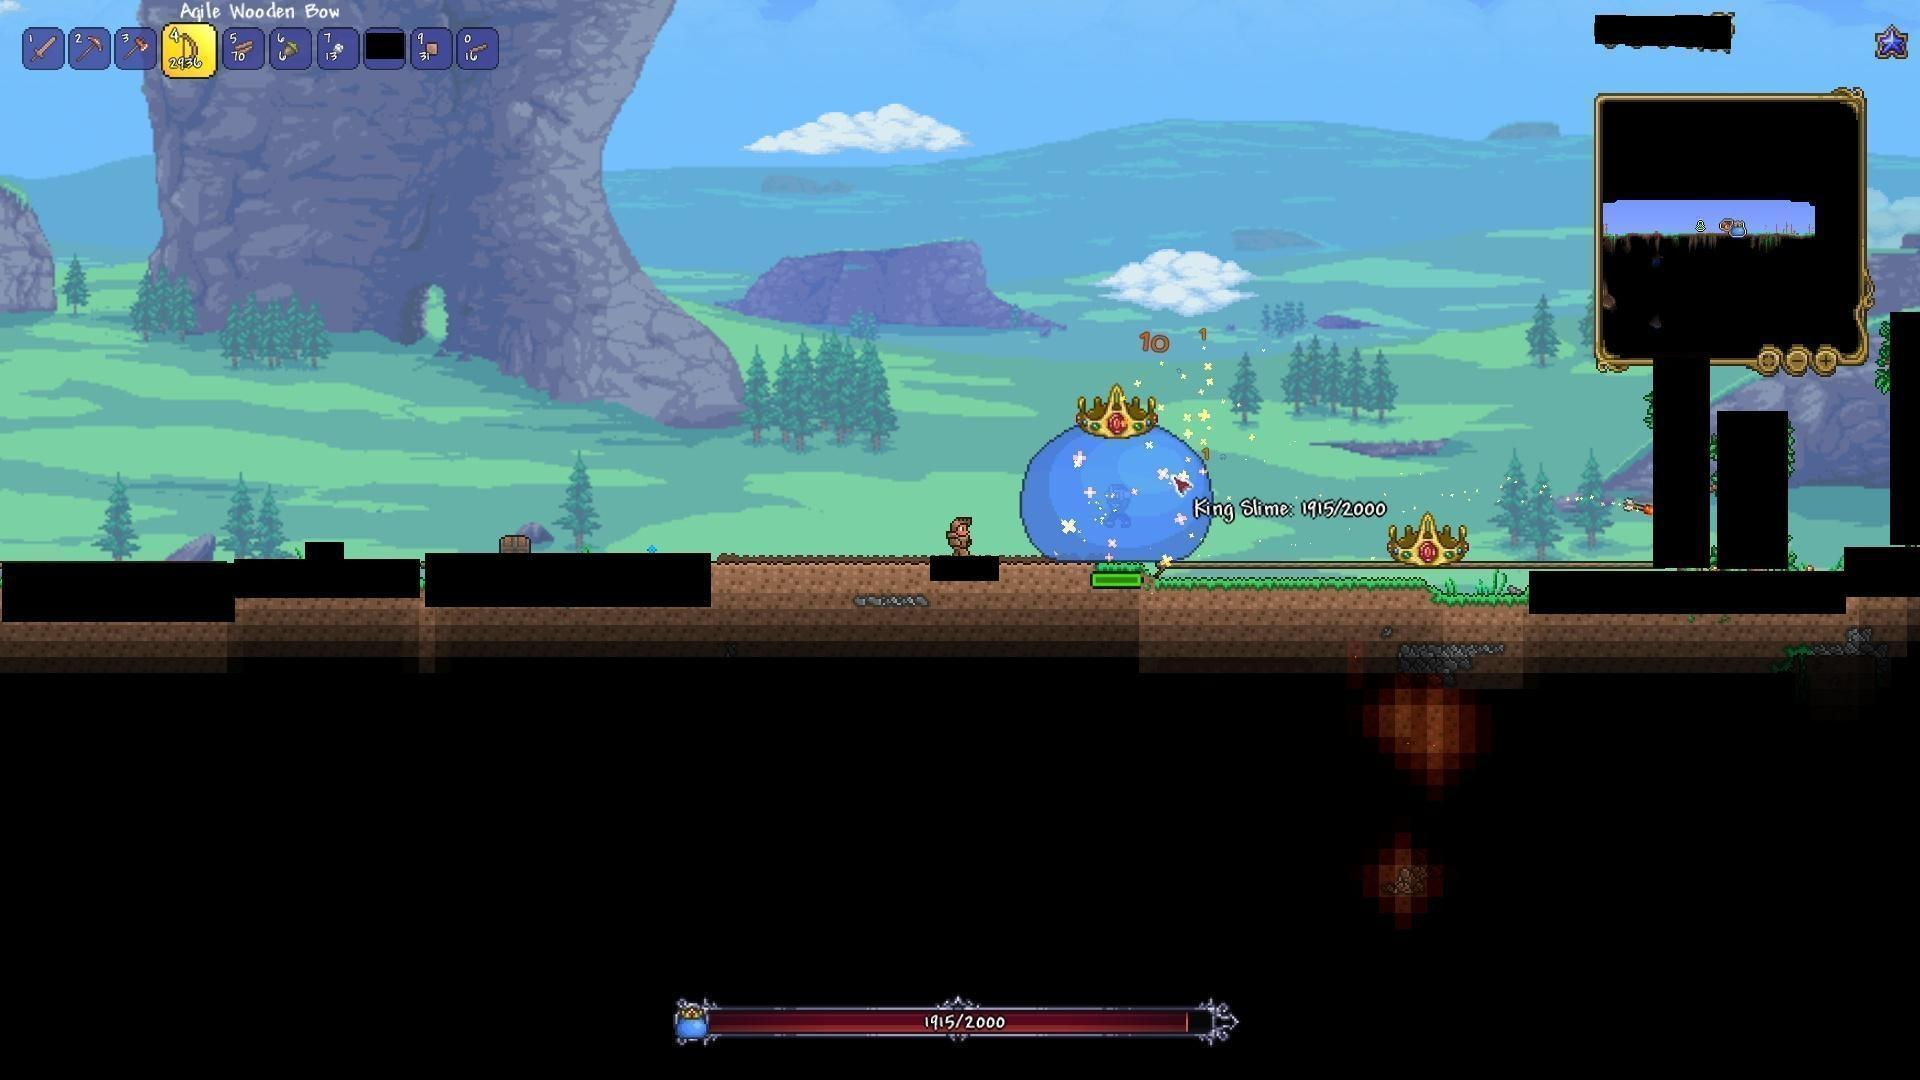dirt: (1154, 572, 1526, 611)
wood: (228, 33, 260, 63)
